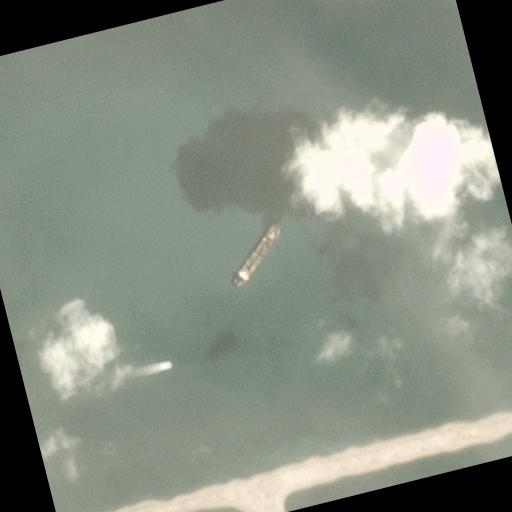ship: (220, 220, 292, 292), (166, 362, 173, 367)
